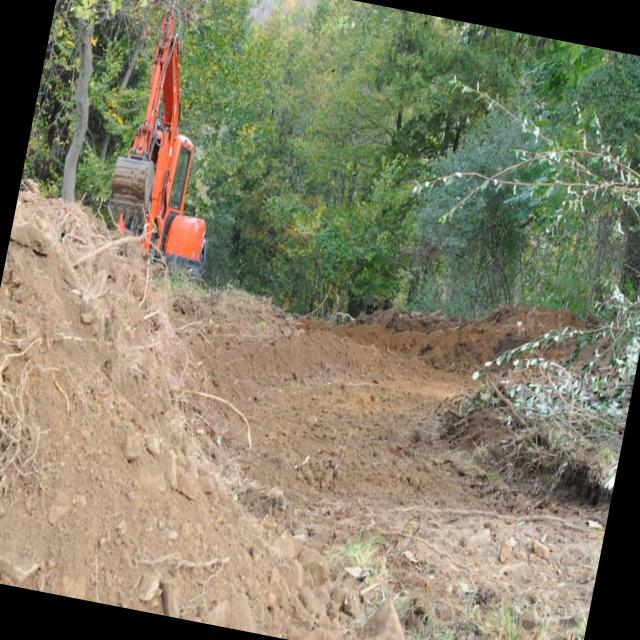Excavadora: (94, 2, 248, 276)
